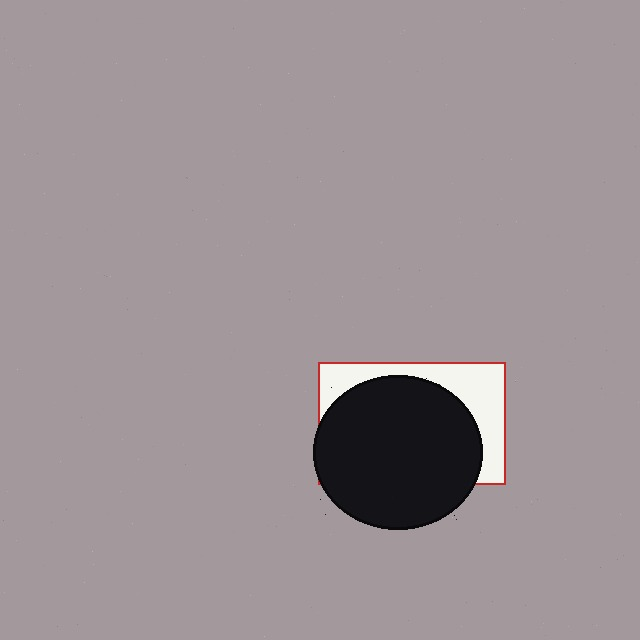book: (318, 362, 505, 484)
pothole: (313, 375, 482, 529)
